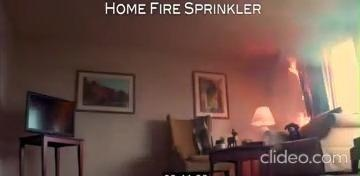fire: (263, 37, 319, 135)
